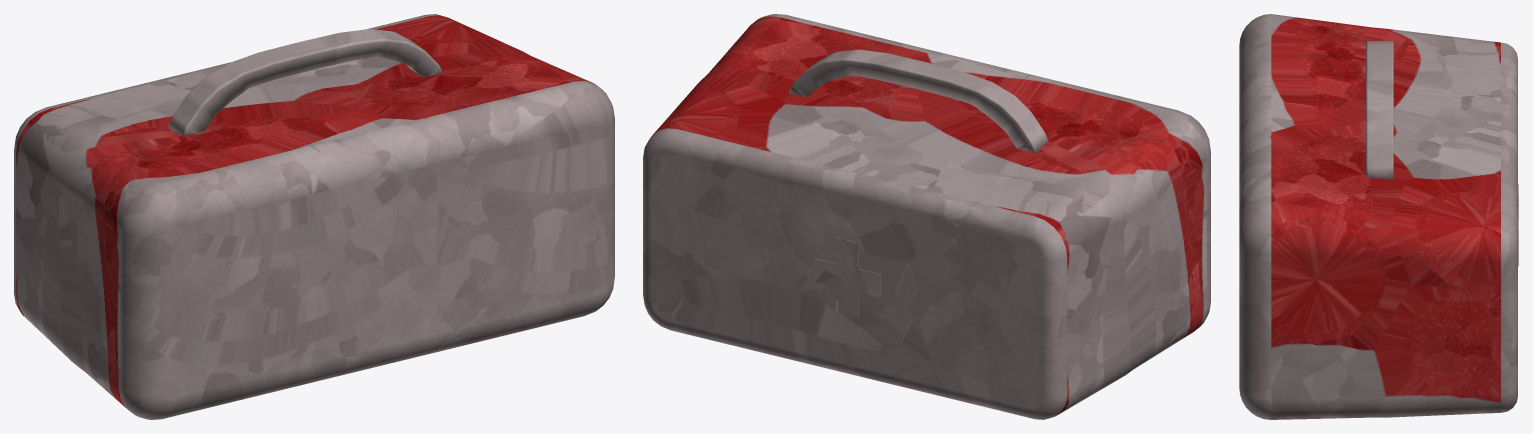
File: BolsaMedica.fbx
3 renders of one model, left to right at view 1: azimuth 30°, elevation 25°; view 2: azimuth 150°, elevation 25°; view 3: azimuth 270°, elevation 25°, orthographic. The views are drawn at different scales.
Visible parts, largest first — view 1: Bolsa, Mango; view 2: Bolsa, Mango; view 3: Bolsa, Mango.
Part boxes in pixels (<box>): Bolsa: <box>14,14,614,419</box>; Mango: <box>168,29,442,135</box>; Bolsa: <box>643,14,1210,419</box>; Mango: <box>789,49,1047,152</box>; Bolsa: <box>1239,14,1518,419</box>; Mango: <box>1366,41,1393,179</box>.
Size of the model in its own units: 369 by 199 by 199.
